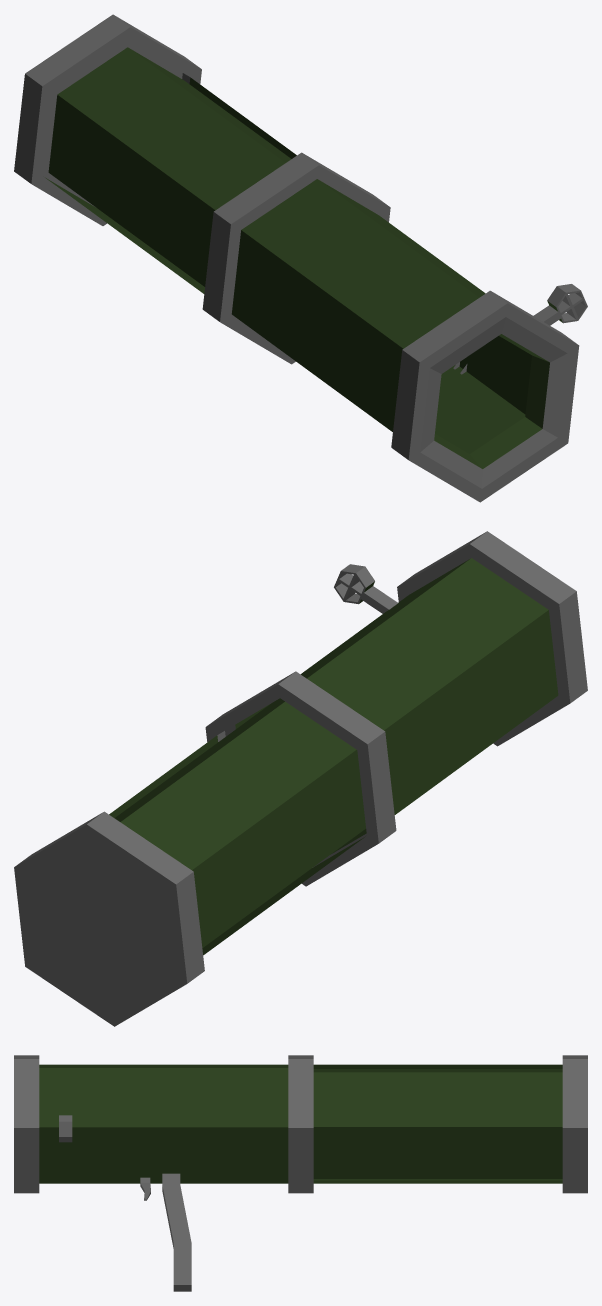
Rendered from bazooka.fbx.
3 renders of one model, top to bottom at view 1: azimuth 30°, elevation 25°; view 2: azimuth 150°, elevation 25°; view 3: azimuth 270°, elevation 25°, orthographic. The views are drawn at different scales.
Parts seen in each view (by area): view 1: Cube.001; view 2: Cube.001; view 3: Cube.001, Cube.002.
Boxes of the visible parts, left/top/right/bottom form: Cube.001: left=14, top=14, right=587, bottom=502; Cube.001: left=14, top=531, right=587, bottom=1026; Cube.001: left=14, top=1055, right=587, bottom=1193; Cube.002: left=140, top=1173, right=191, bottom=1291.
Bounding box in the file's own units: 219 × 205 × 584.
